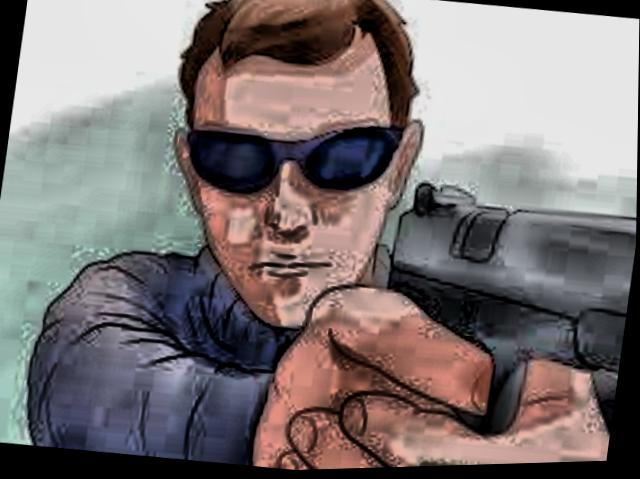pistol: (361, 167, 638, 460)
